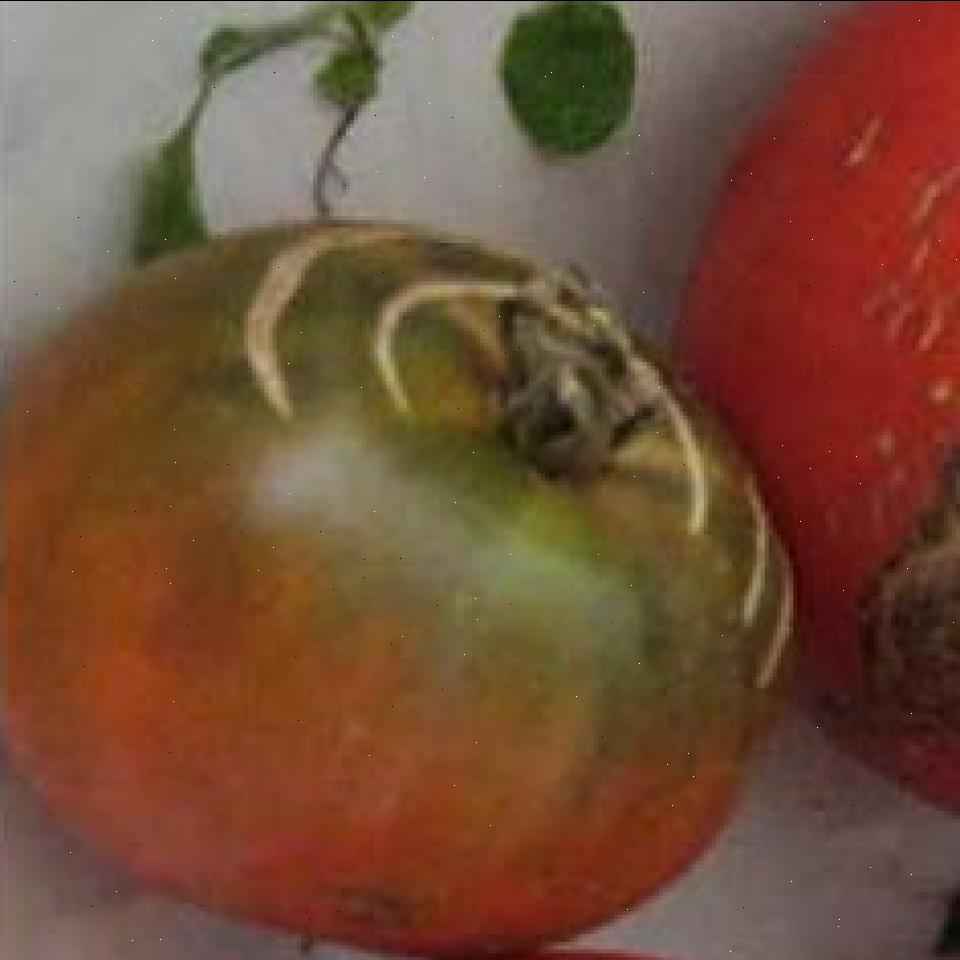Cracking: (360, 246, 717, 552), (208, 204, 420, 458), (740, 475, 834, 739)
